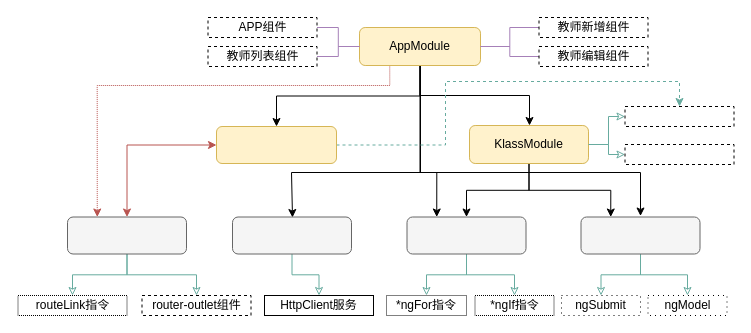
The diagram is 751 pixels wide and 333 high, and some of its shapes have lost their labels. Here are the shapes that lost their labels. From the top down, the centre of each, then its label:
[679,116]: 班级列表组件
[276,145]: AppRoutingModule
[679,154]: 班级新增组件
[126,235]: RouterModule
[292,235]: HttpClientModule
[466,235]: BrowserModule
[640,235]: FormsModule
